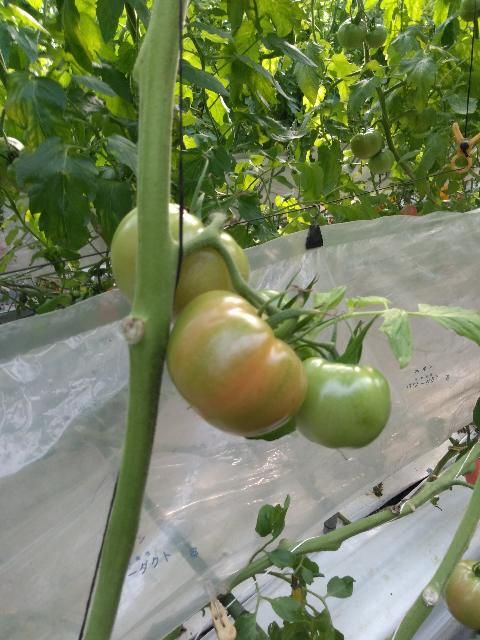b_green: (110, 202, 250, 326), (295, 357, 391, 451), (441, 559, 479, 630), (350, 129, 383, 160), (367, 149, 395, 174)
b_half_ripened: (165, 289, 307, 437)
